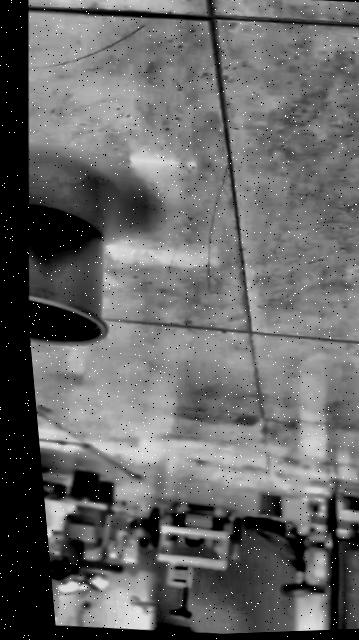pot: (18, 201, 118, 347)
